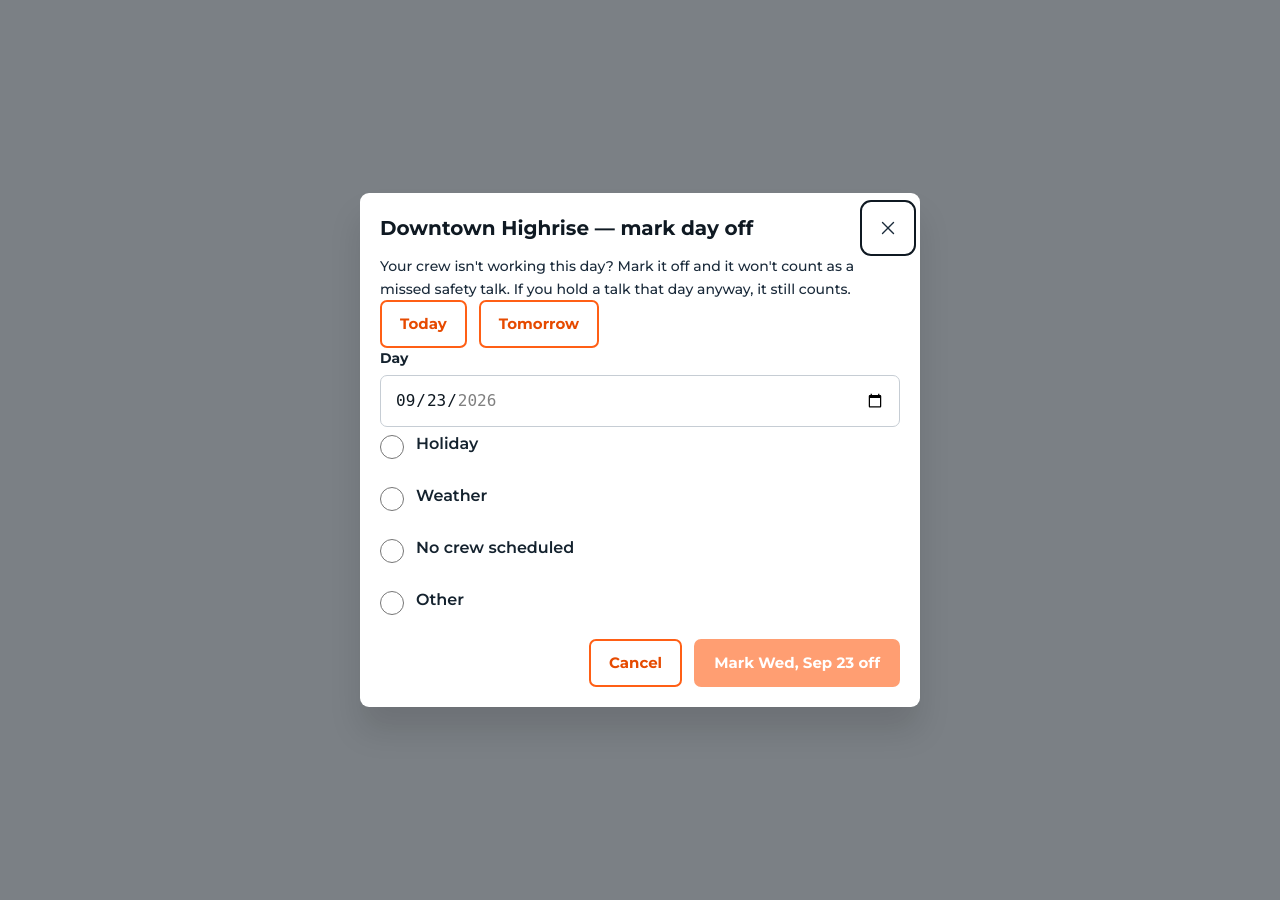
Scenario: MarkDayOffModal › moves to tomorrow and back to today with the quick buttons
Click the button "Tomorrow" at (539, 324), box [479,300,599,348]
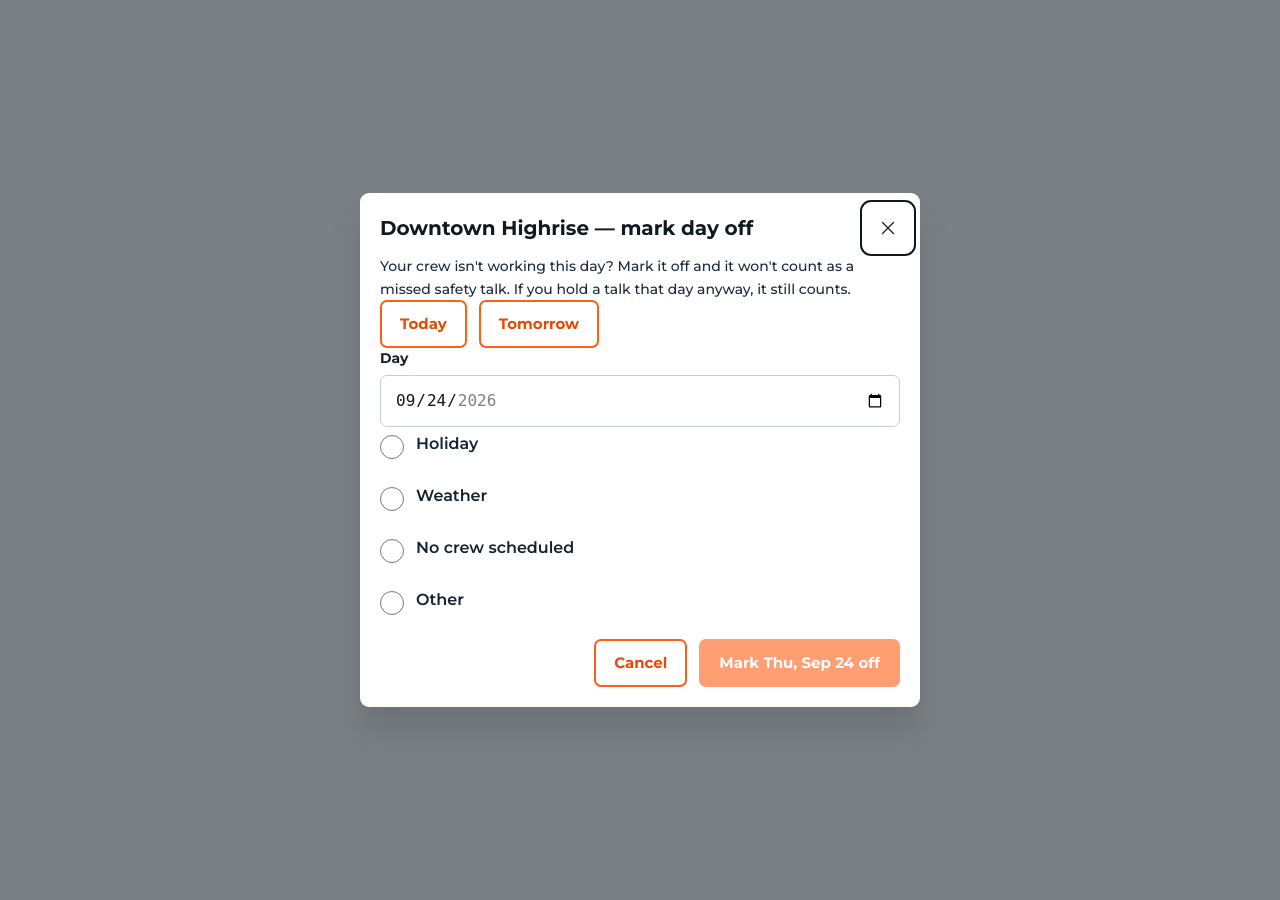
Now the date field labelled "Day" holds "2026-09-24", box [380,375,900,427]
Now the button "Mark Thu, Sep 24 off" is shown, box [699,639,900,687]
Click the button "Today" at (423, 324), box [380,300,467,348]
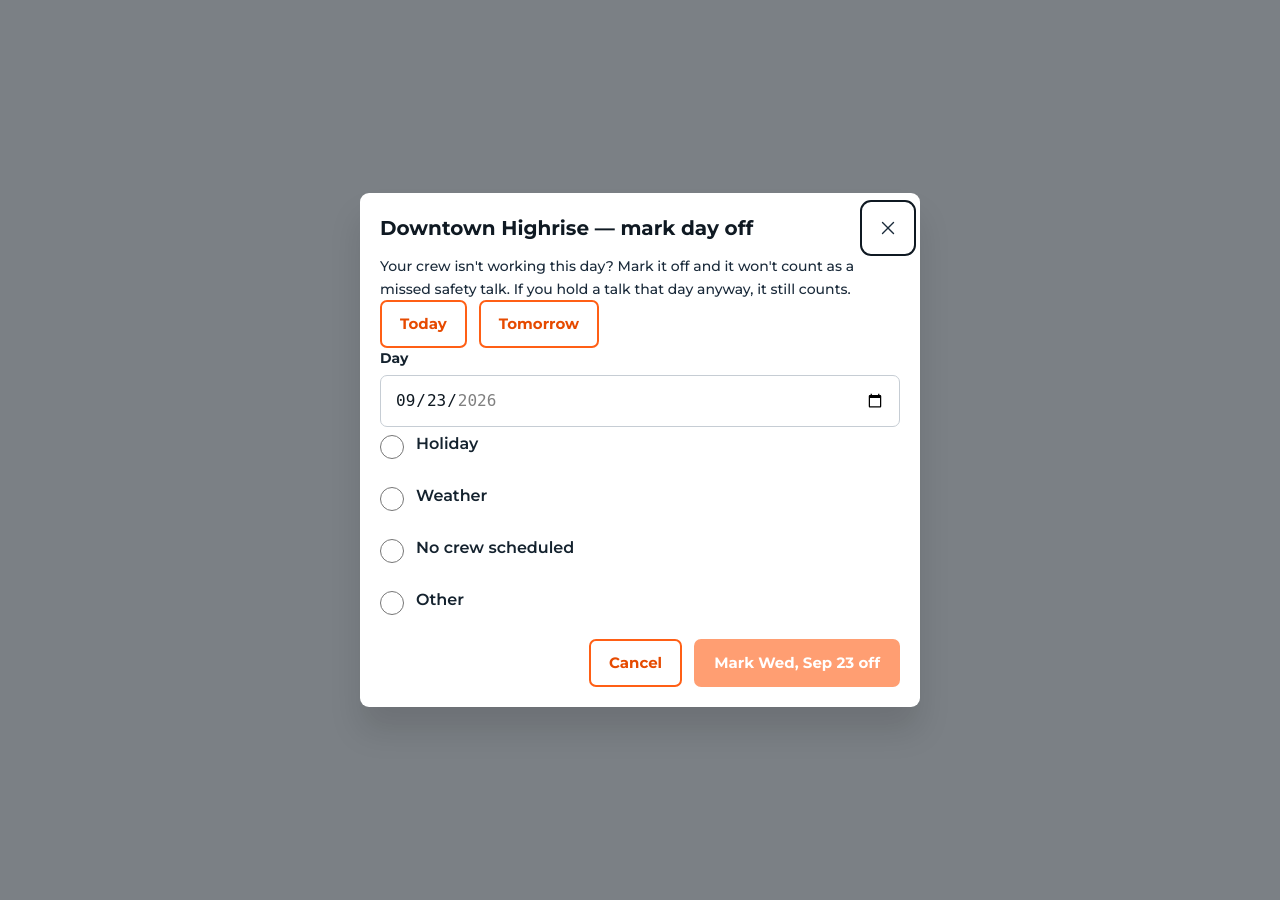
Now the date field labelled "Day" holds "2026-09-23", box [380,375,900,427]
